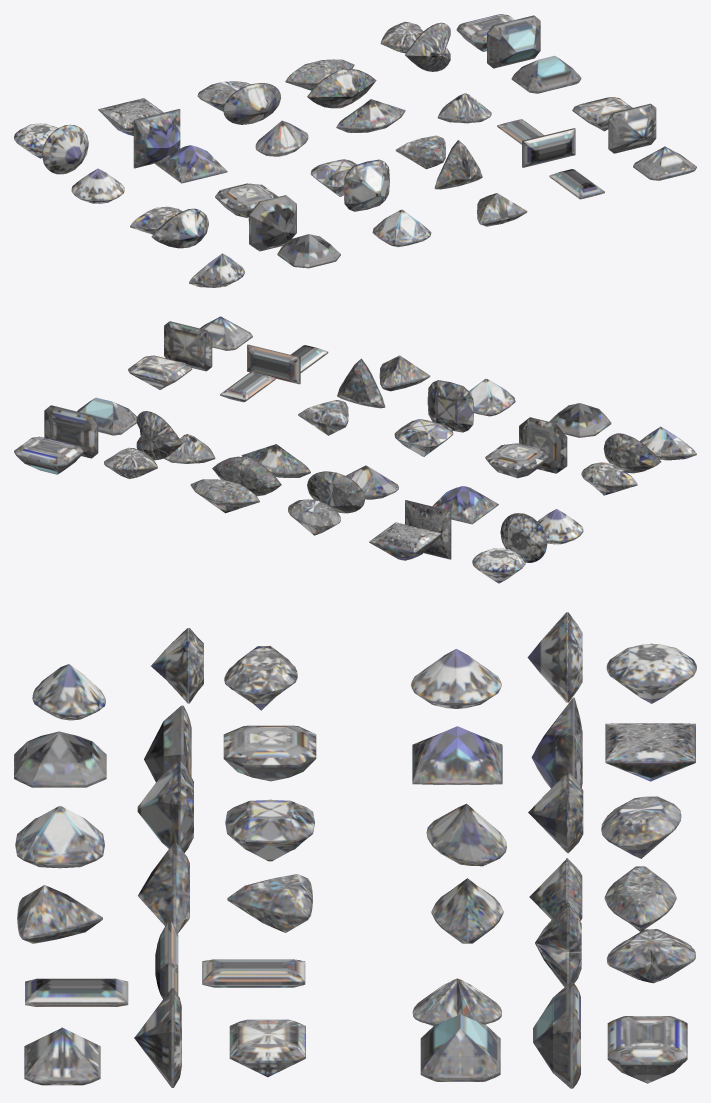
3 renders of one model, top to bottom at view 1: azimuth 30°, elevation 25°; view 2: azimuth 150°, elevation 25°; view 3: azimuth 270°, elevation 25°, orthographic. The views are drawn at different scales.
Visible parts, largest first — view 1: Diamond Emerald cut003_DIAMANT_0, Plane004, Diamond Emerald cut004_DIAMANT_0, Plane013, Plane010, DIAMOND175_DIAMANT_0, Plane009, DIAMOND173_DIAMANT_0, Diamond Emerald cut005_DIAMANT_0, Plane018, Plane014, DIAMOND174_DIAMANT_0 (+24 smaller); view 2: Diamond Emerald cut003_DIAMANT_0, Plane013, Plane010, Diamond Emerald cut004_DIAMANT_0, DIAMOND175_DIAMANT_0, Diamond Emerald cut_DIAMANT_0, DIAMOND173_DIAMANT_0, Plane004, Plane005, Plane009, DIAMOND174_DIAMANT_0, Plane014 (+24 smaller); view 3: Diamond Emerald cut_DIAMANT_0, Diamond Emerald cut005_DIAMANT_0, Plane018, Plane005, Diamond Emerald cut001_DIAMANT_0, Diamond Emerald cut006_DIAMANT_0, Plane023, Plane012, Plane022, Plane007, DIAMOND176_DIAMANT_0, DIAMOND170_DIAMANT_0 (+24 smaller).
Part boxes in pixels (box(x1,y1,x2,y2)): Diamond Emerald cut003_DIAMANT_0: box(487, 15, 540, 68); Plane004: box(133, 109, 180, 168); Diamond Emerald cut004_DIAMANT_0: box(248, 195, 296, 251); Plane013: box(343, 159, 389, 211); Plane010: box(608, 103, 656, 153); DIAMOND175_DIAMANT_0: box(223, 83, 280, 124); Plane009: box(307, 69, 376, 108); DIAMOND173_DIAMANT_0: box(42, 124, 88, 174); Diamond Emerald cut005_DIAMANT_0: box(511, 55, 581, 93); Plane018: box(155, 145, 227, 183); Plane014: box(405, 22, 450, 71); DIAMOND174_DIAMANT_0: box(151, 208, 208, 248); Diamond Emerald cut003_DIAMANT_0: box(44, 405, 98, 458); Plane013: box(427, 380, 473, 432); Plane010: box(164, 321, 212, 371); Diamond Emerald cut004_DIAMANT_0: box(519, 417, 567, 473); DIAMOND175_DIAMANT_0: box(307, 471, 365, 513); Diamond Emerald cut_DIAMANT_0: box(14, 436, 83, 474); DIAMOND173_DIAMANT_0: box(500, 513, 547, 562); Plane004: box(405, 500, 451, 559); Plane005: box(369, 522, 441, 560); Plane009: box(212, 456, 281, 496); DIAMOND174_DIAMANT_0: box(603, 433, 661, 473); Plane014: box(136, 411, 182, 460); Diamond Emerald cut_DIAMANT_0: box(607, 1016, 687, 1083); Diamond Emerald cut005_DIAMANT_0: box(420, 1014, 500, 1081); Plane018: box(412, 726, 502, 784); Plane005: box(605, 723, 695, 781); Diamond Emerald cut001_DIAMANT_0: box(223, 725, 316, 781); Diamond Emerald cut006_DIAMANT_0: box(14, 731, 106, 787); Plane023: box(15, 806, 104, 868); Plane012: box(225, 799, 314, 861); Plane022: box(24, 1027, 100, 1085); Plane007: box(229, 1019, 305, 1077); DIAMOND176_DIAMANT_0: box(411, 649, 501, 708); DIAMOND170_DIAMANT_0: box(606, 643, 696, 703).
Size of the model in its own units: 0.1138 by 0.0159 by 0.079.
Materials: 1 (1 with a texture image).
